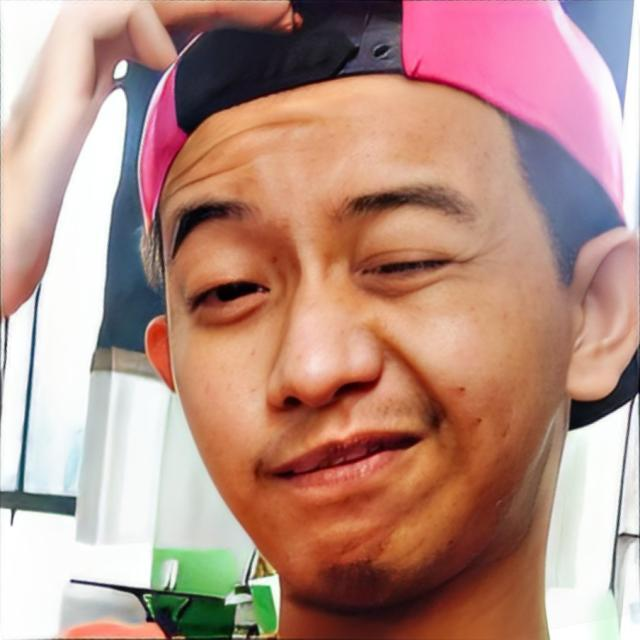content: (160, 68, 570, 610)
